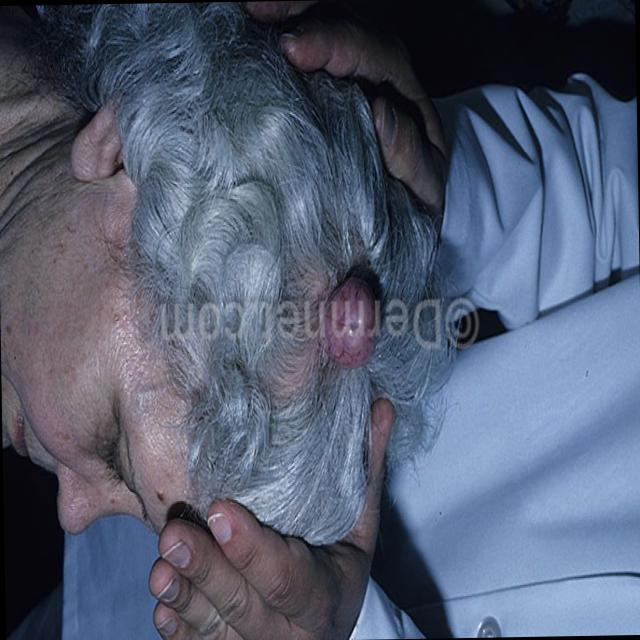Eczema: (308, 280, 377, 364)
